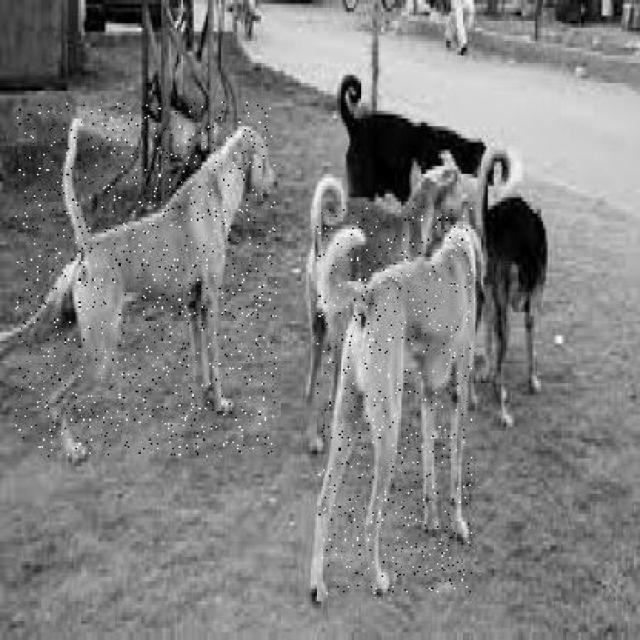Dog: (15, 101, 278, 458), (316, 207, 475, 596)
